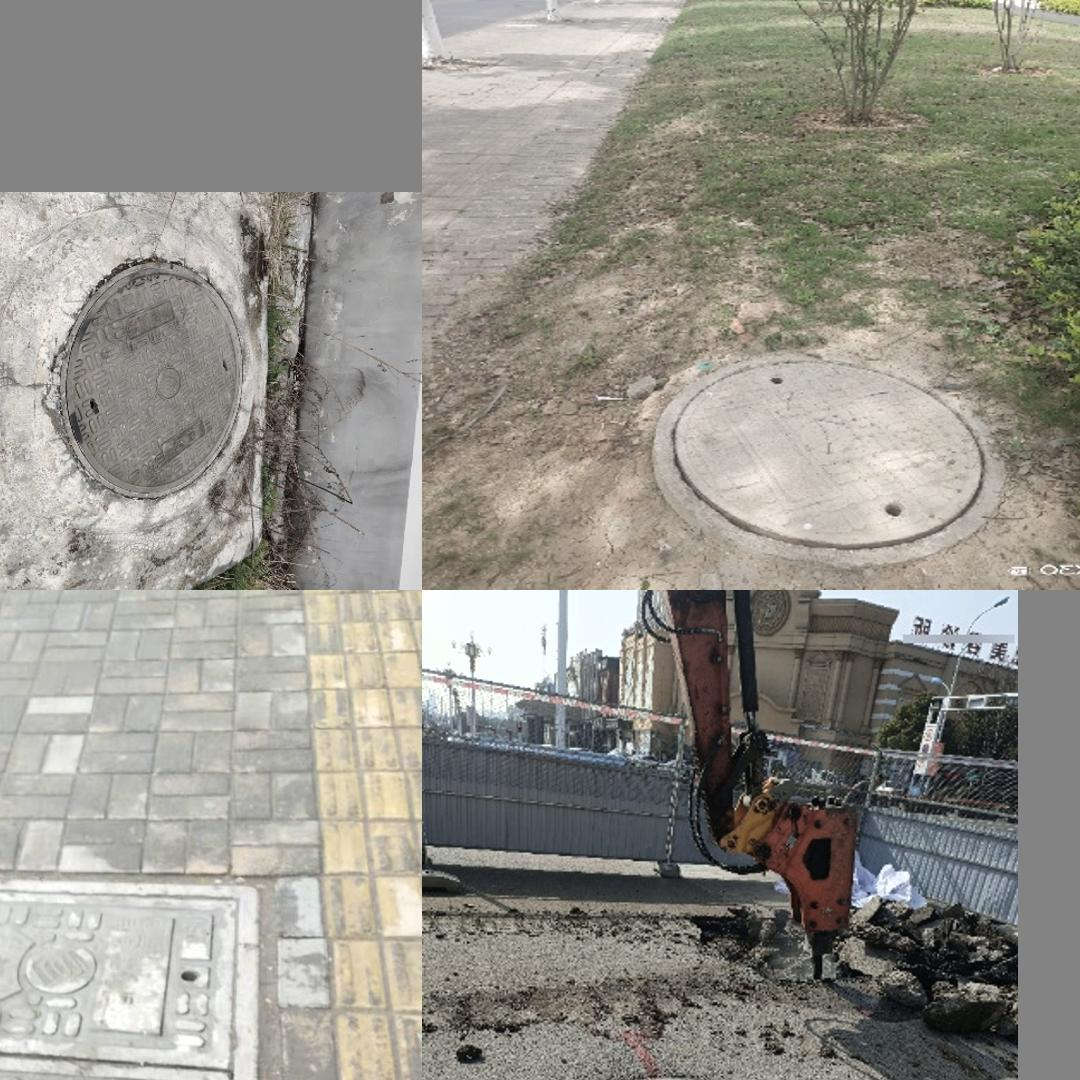good: (653, 349, 1005, 571), (0, 877, 257, 1080), (62, 264, 240, 498), (586, 1070, 767, 1080)
